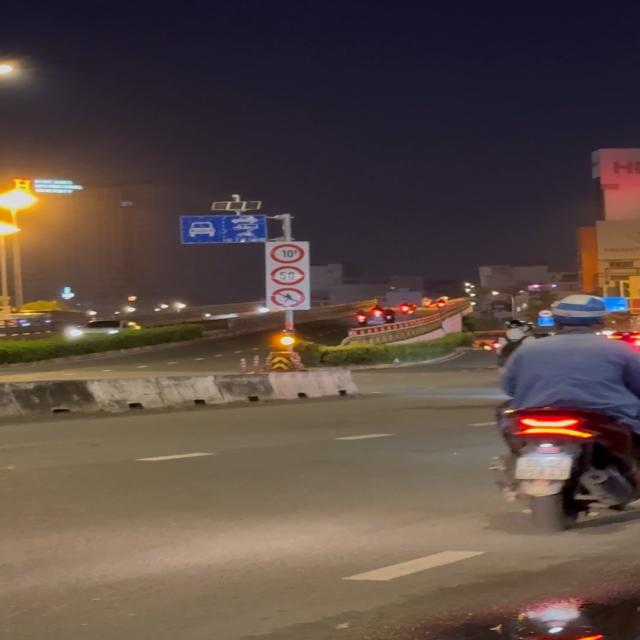Bien bao cam nguoi di bo: (270, 286, 307, 310)
Bien bao toc do toi da cho phep: (271, 266, 307, 286)
